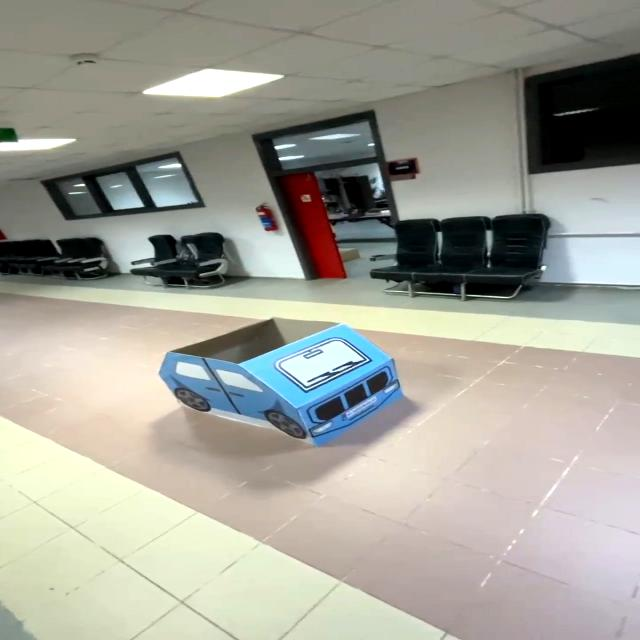blue_car: (139, 309, 405, 458)
